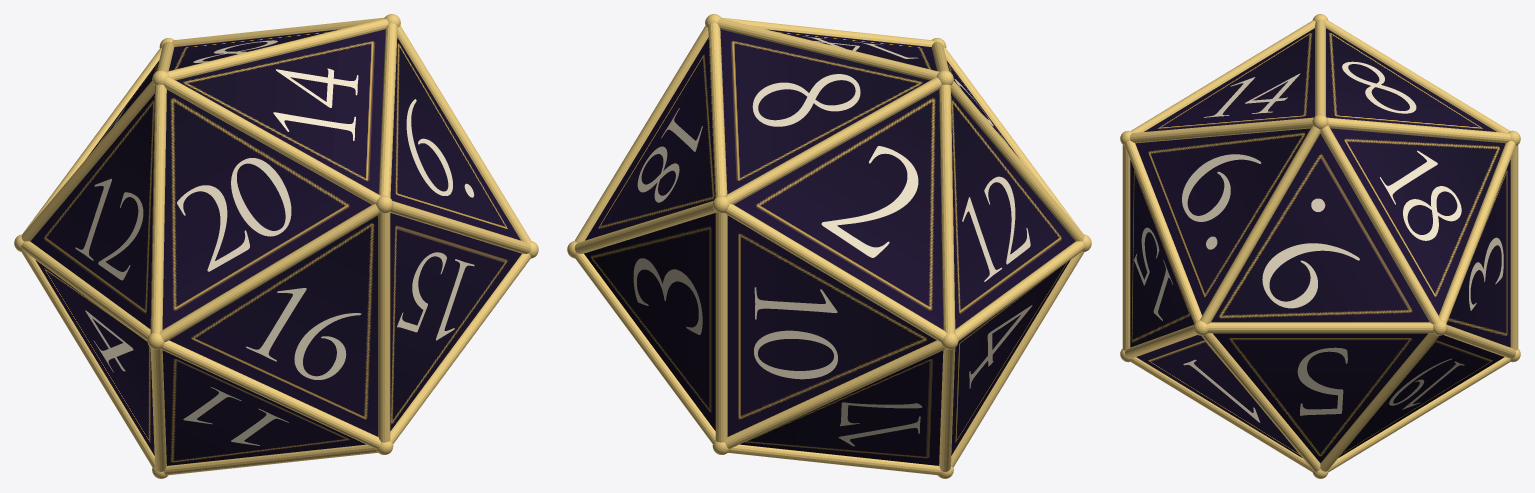
File: gothic_d20_website.glb
3 views of the same model, side by side, from view 1: azimuth 30°, elevation 25°; view 2: azimuth 150°, elevation 25°; view 3: azimuth 270°, elevation 25° (orthographic). The views are drawn at different scales.
Parts seen in each view (by area): view 1: regular_equal_faces_d20_body, uniform_gold_edges, Text_20, Text_16, Text_14, gold_vertex_caps, Text_12, Text_15, Text_6, Text_11, Text_4; view 2: regular_equal_faces_d20_body, uniform_gold_edges, Text_10, Text_2, Text_8, gold_vertex_caps, Text_12, Text_18, Text_3, Text_17, Text_4; view 3: regular_equal_faces_d20_body, uniform_gold_edges, Text_9, Text_18, Text_6, gold_vertex_caps, Text_5, Text_8, Text_14, Text_15, Text_19, Text_3.
Part boxes in pixels (x1,y1,x2,y2): regular_equal_faces_d20_body: [30, 29, 521, 465]; uniform_gold_edges: [21, 17, 531, 475]; Text_20: [177, 158, 291, 271]; Text_16: [246, 288, 361, 379]; Text_14: [273, 68, 358, 140]; gold_vertex_caps: [14, 14, 538, 478]; Text_12: [75, 178, 143, 280]; Text_15: [397, 252, 474, 340]; Text_6: [406, 99, 474, 197]; Text_11: [183, 387, 288, 445]; Text_4: [85, 310, 133, 372]; regular_equal_faces_d20_body: [584, 29, 1075, 465]; uniform_gold_edges: [574, 17, 1084, 475]; Text_10: [754, 287, 837, 379]; Text_2: [821, 146, 918, 257]; Text_8: [752, 74, 860, 126]; gold_vertex_caps: [567, 14, 1091, 478]; Text_12: [962, 176, 1030, 281]; Text_18: [637, 108, 702, 202]; Text_3: [633, 258, 702, 334]; Text_17: [838, 402, 922, 446]; Text_4: [969, 305, 1032, 388]; regular_equal_faces_d20_body: [1130, 28, 1510, 462]; uniform_gold_edges: [1122, 19, 1518, 472]; Text_9: [1262, 198, 1359, 308]; Text_18: [1380, 150, 1461, 240]; Text_6: [1182, 154, 1261, 249]; gold_vertex_caps: [1120, 14, 1520, 478]; Text_5: [1297, 347, 1347, 415]; Text_8: [1342, 61, 1416, 113]; Text_14: [1204, 73, 1300, 117]; Text_15: [1134, 227, 1172, 320]; Text_19: [1389, 358, 1464, 409]; Text_3: [1469, 237, 1503, 310].
Bounding box in the file's own units: 2.57 × 2.57 × 2.57.
22 materials, 1 textured.
